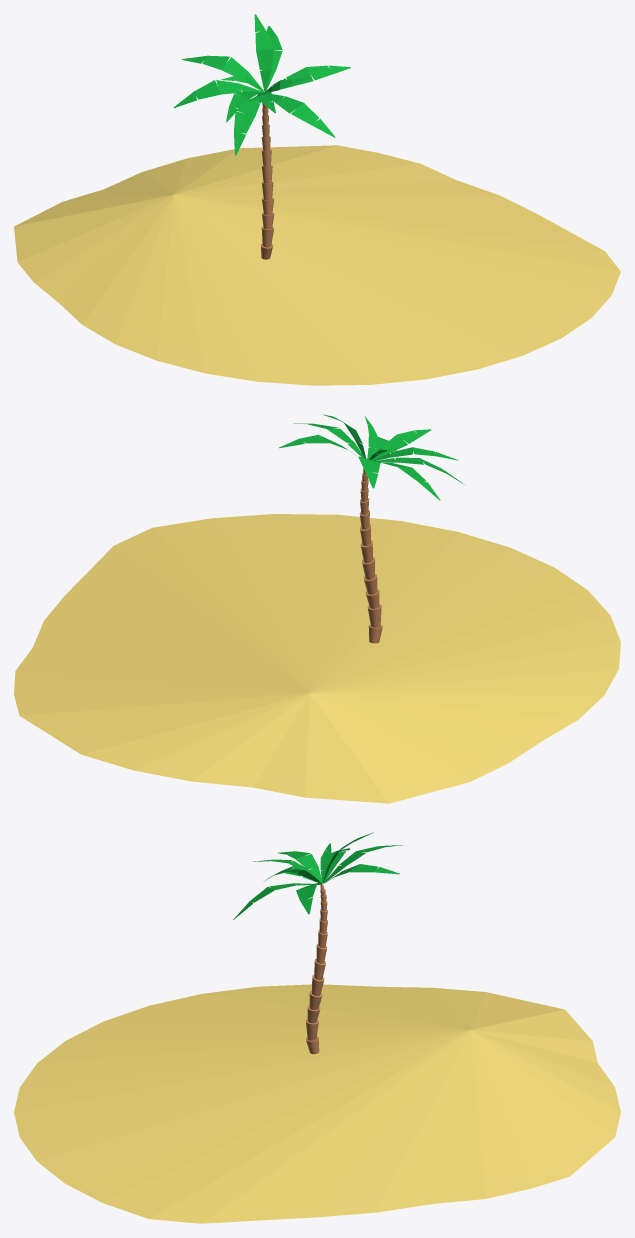
The model's file is island.fbx.
3 renders of one model, top to bottom at view 1: azimuth 30°, elevation 25°; view 2: azimuth 150°, elevation 25°; view 3: azimuth 270°, elevation 25°, orthographic. The views are drawn at different scales.
Visible parts, largest first — view 1: Cone, Plane, Cylinder; view 2: Cone, Plane, Cylinder; view 3: Cone, Plane, Cylinder.
Part boxes in pixels (bbox=[...]): Cone: bbox=[14, 145, 620, 385]; Plane: bbox=[173, 14, 350, 155]; Cylinder: bbox=[260, 103, 274, 259]; Cone: bbox=[14, 514, 620, 803]; Plane: bbox=[279, 414, 464, 500]; Cylinder: bbox=[359, 468, 382, 643]; Cone: bbox=[14, 984, 620, 1223]; Plane: bbox=[233, 832, 402, 919]; Cylinder: bbox=[305, 884, 327, 1054].
Bounding box in the file's own units: 3424 × 1699 × 3666.
